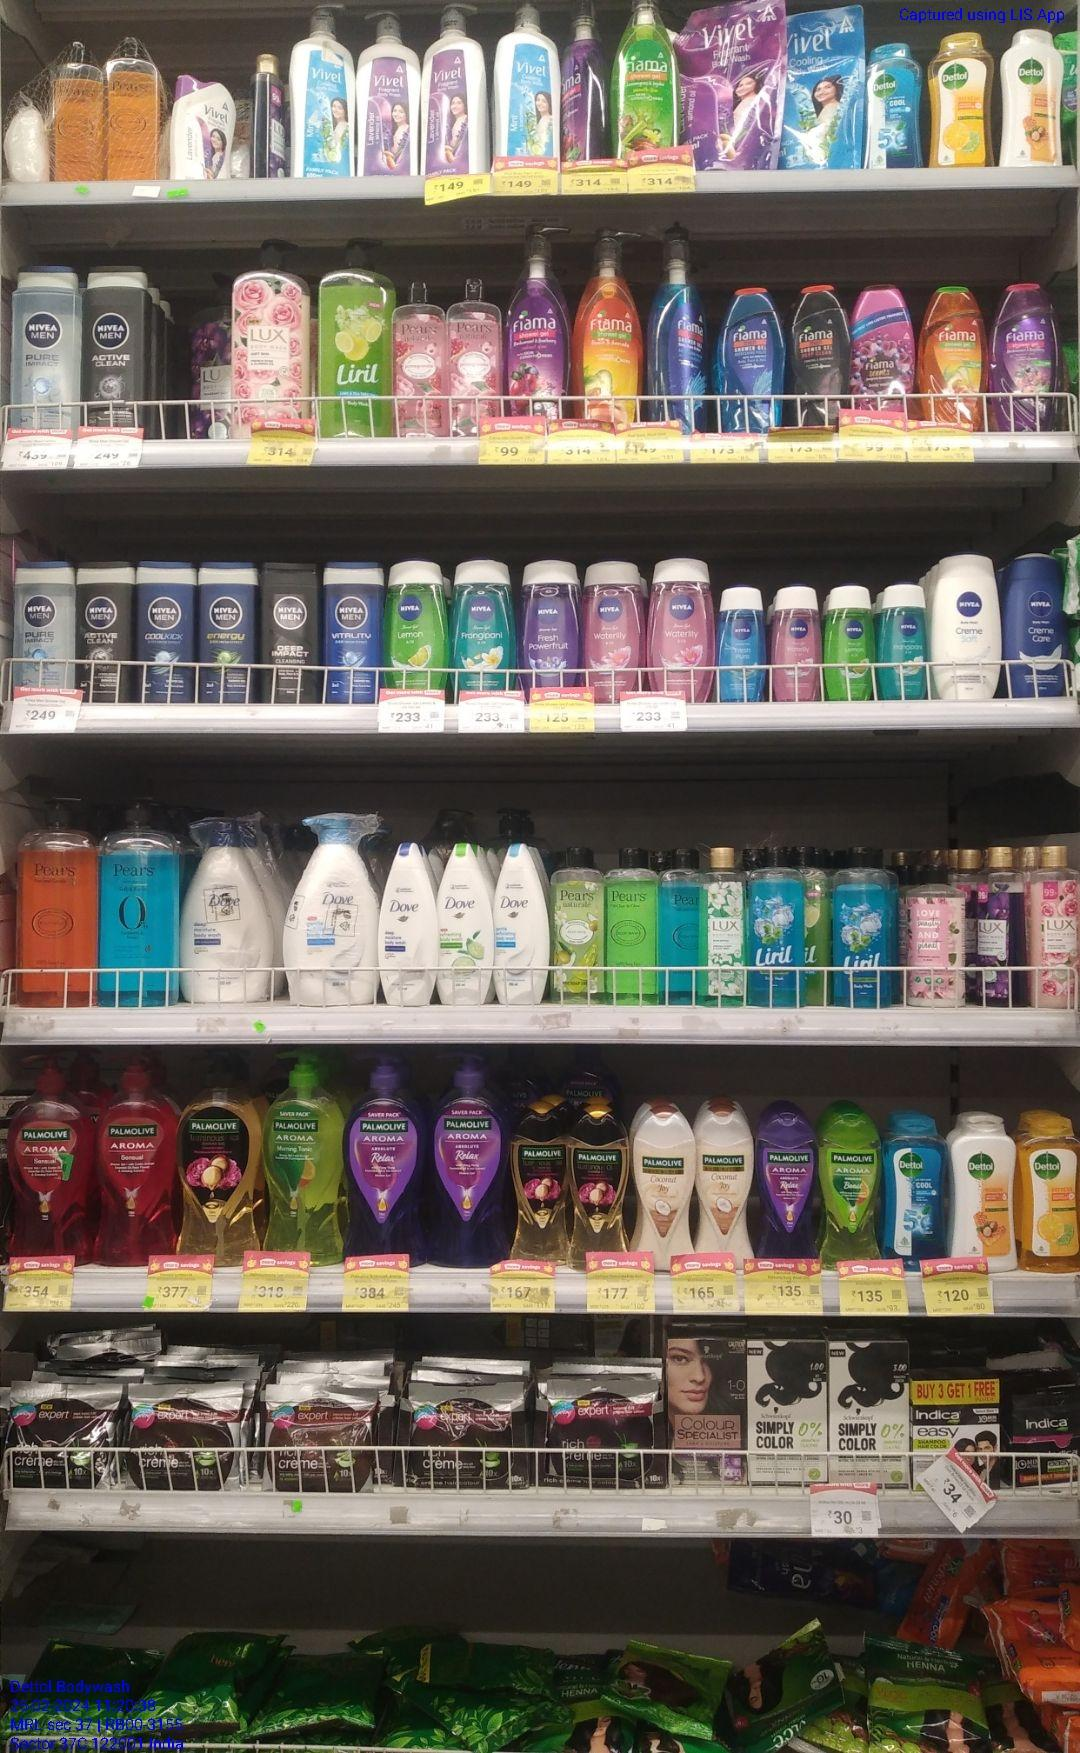Dettol_Bodywash_Cool: (886, 1117, 946, 1258), (867, 43, 924, 165)
Dettol_Bodywash_Refresh: (926, 29, 994, 168), (1017, 1122, 1080, 1270)
Dettol_Nourish_Body_Wash_250ML: (949, 1117, 1016, 1272), (1004, 29, 1062, 163)
Dove_Deep_Moisture_Body_Wash_250ML: (377, 840, 438, 1005)
Dove_Gentle_Exfoliating_Body_Wash_250ML: (493, 844, 551, 1007)
Dove_Refreshing_Body_Wash_250ML: (439, 844, 489, 1008)
Fiama_Shower_Gel_Peach_and_Avocado_250ML: (925, 288, 984, 429)
Liril_Cooling_Mint_Body_Wash_250ML: (830, 845, 896, 1009), (751, 846, 807, 1007)
Lux_Black_Orchid_Scent_and_Juniper_Oil_Body_Wash_245ML: (975, 846, 1019, 1009)
Lux_Body_Wash_Skin_Detox_Freesia_Scent_and_Alove_Vera_245ML: (710, 845, 743, 1004)
Nivea_Shower_Gel_Frangipani_and_Oil_250ML: (454, 560, 512, 689)
Nivea_Shower_Gel_Fresh_Powerfruit_250ML: (518, 560, 582, 686)
Nivea_Shower_Gel_Lemon_and_Oil_250ML: (390, 561, 451, 691)
Nivea_Shower_Gel_Waterlily_and_Oil_250ML: (653, 558, 716, 699), (586, 561, 642, 706)
Palmolive_Aroma_Morning_Tonic_Shower_Gel_250ML: (825, 1112, 885, 1263)
Palmolive_Aroma_Relax_250ML: (757, 1113, 821, 1261)
Palmolive_Coconut_Joy_Exfoliating_Body_Wash_250ML: (636, 1112, 693, 1260), (697, 1111, 750, 1260)
Palmolive_Luminous_Oils_Invigorating_Macadamia_Oil_With_Peony_250ML: (572, 1111, 628, 1270), (513, 1106, 568, 1262)
Pears_Naturale_Aloe_Vera_Body_Wash_250ML: (554, 845, 606, 1005)
Pears_Pure_Glycerin_and_Lemon_Flower_Extracts_Body_Wash_250ML: (609, 845, 661, 1004)
Pears_Pure_Glycerin_and_Mint_Extracts_Body_Wash_250ML: (662, 848, 703, 1003)
